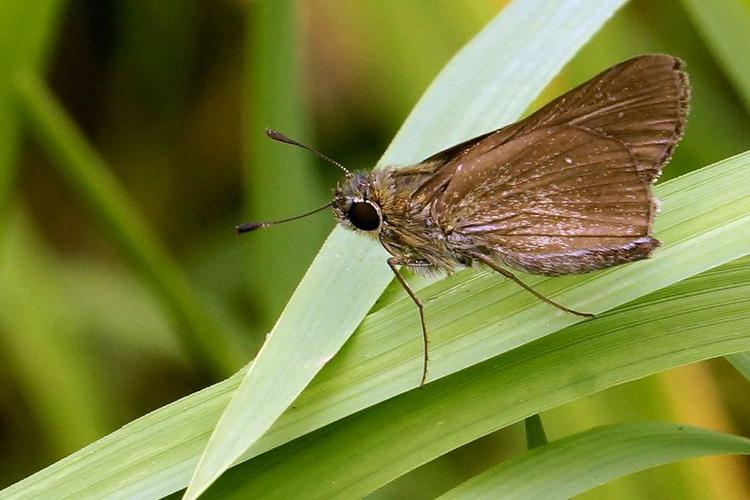Hesperiidae: (237, 49, 695, 395)
